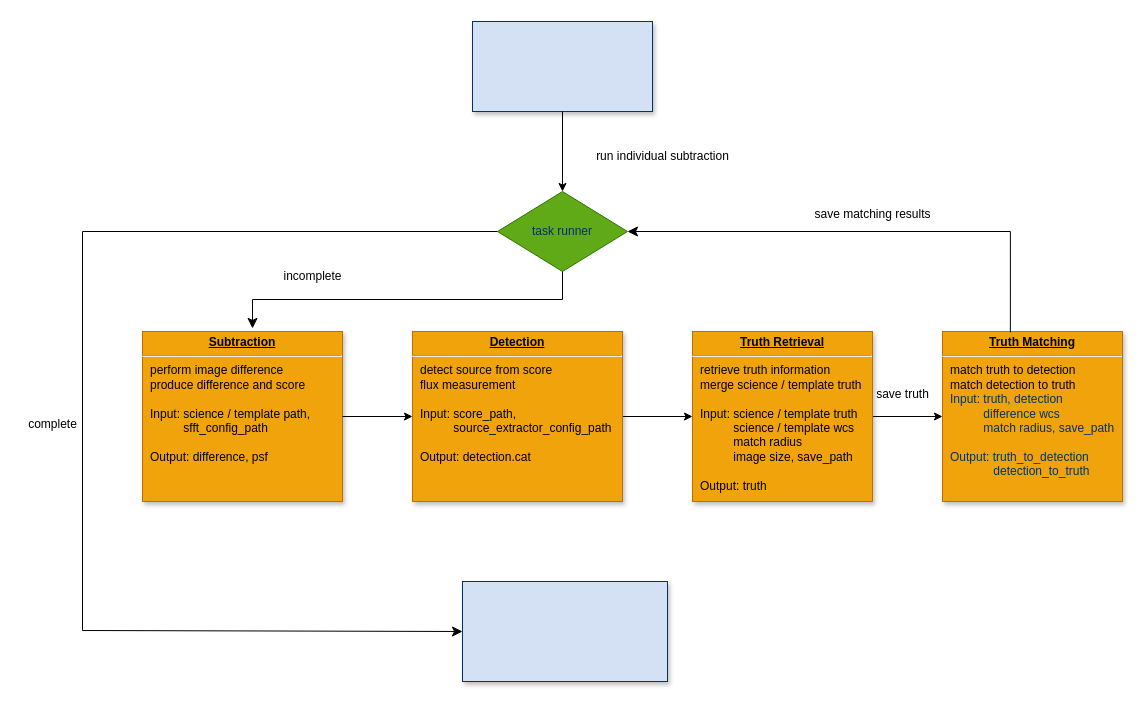
Image size: 1146x706. Some labels were removed from this diagram. The shapes that lost their labels are listed below. From the top down, each one's centre as x and y in pixels, then its label:
point (563, 67): Validation Pipeline Input: science / template ids, output_dir
point (566, 632): Evaluation evaluate efficiency and purity visualize postage stamps
